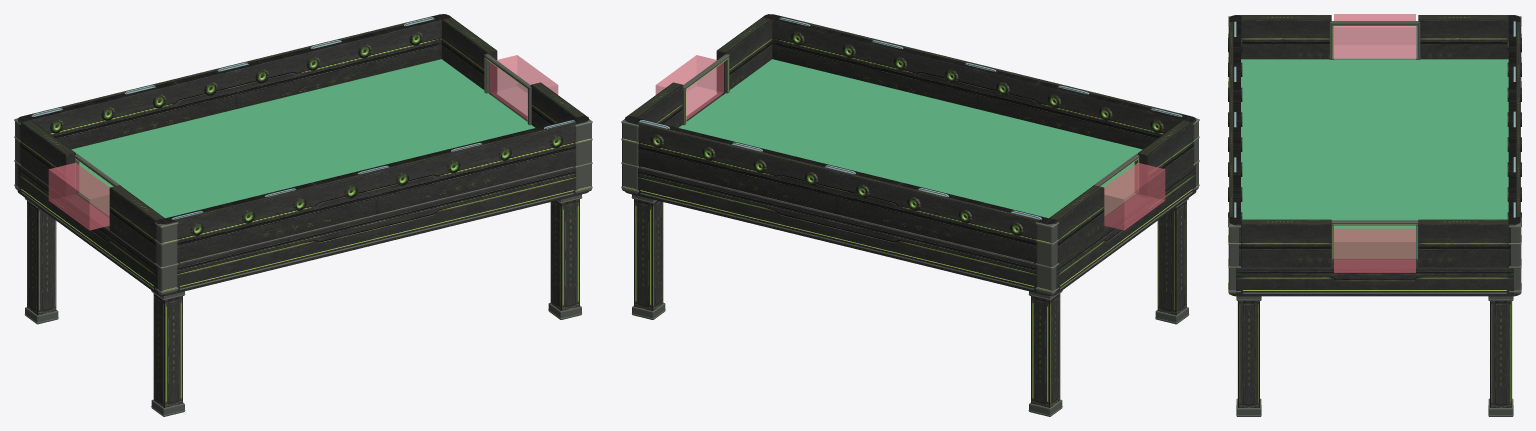
File: candidate.glb
3 views of the same model, side by side, from view 1: azimuth 30°, elevation 25°; view 2: azimuth 150°, elevation 25°; view 3: azimuth 270°, elevation 25° (orthographic).
Visible parts, largest first — view 1: field.001, wall_side_near.001, table_base.001, wall_side_far.001, alien_decor_alien_corner_armour, alien_decor_alien_engraved_top, table_leg.005, table_leg.007, table_leg.004, goal_net_left.001, alien_decor_alien_corner_edges, wall_end_l_far.001 (+7 smaller); view 2: field.001, wall_side_far.001, table_base.001, wall_side_near.001, alien_decor_alien_corner_armour, alien_decor_alien_engraved_top, table_leg.004, table_leg.006, table_leg.005, goal_net_left.001, alien_decor_alien_corner_edges, wall_end_l_near.001 (+7 smaller); view 3: field.001, table_base.001, wall_end_r_far.001, wall_end_r_near.001, alien_decor_alien_engraved_top, goal_net_right.001, wall_end_l_far.001, wall_end_l_near.001, goal_net_left.001, table_leg.006, table_leg.007, alien_decor_alien_corner_armour (+6 smaller).
Part boxes in pixels (box(x1,y1,x2,y2)): field.001: box(71, 59, 535, 218); wall_side_near.001: box(155, 115, 589, 263); table_base.001: box(17, 94, 588, 295); wall_side_far.001: box(17, 14, 451, 164); alien_decor_alien_corner_armour: box(15, 118, 591, 416); alien_decor_alien_engraved_top: box(22, 16, 584, 220); table_leg.005: box(153, 293, 182, 407); table_leg.007: box(550, 199, 579, 310); table_leg.004: box(27, 201, 56, 315); goal_net_left.001: box(48, 162, 109, 230); alien_decor_alien_corner_edges: box(14, 14, 592, 415); wall_end_l_far.001: box(21, 122, 76, 197); field.001: box(678, 59, 1142, 218); wall_side_far.001: box(624, 115, 1058, 263); table_base.001: box(625, 94, 1196, 295); wall_side_near.001: box(762, 14, 1196, 164); alien_decor_alien_corner_armour: box(622, 118, 1198, 416); alien_decor_alien_engraved_top: box(629, 16, 1191, 220); table_leg.004: box(1031, 293, 1060, 407); table_leg.006: box(634, 199, 663, 310); table_leg.005: box(1157, 201, 1186, 315); goal_net_left.001: box(1104, 162, 1165, 230); alien_decor_alien_corner_edges: box(621, 14, 1199, 415); wall_end_l_near.001: box(1137, 122, 1192, 197); field.001: box(1241, 59, 1508, 258); table_base.001: box(1231, 58, 1518, 296); wall_end_r_far.001: box(1418, 220, 1508, 267); wall_end_r_near.001: box(1241, 220, 1331, 267); alien_decor_alien_engraved_top: box(1229, 15, 1520, 224); goal_net_right.001: box(1334, 228, 1415, 272); wall_end_l_far.001: box(1418, 15, 1508, 59); wall_end_l_near.001: box(1241, 15, 1331, 59); goal_net_left.001: box(1334, 14, 1415, 58); table_leg.006: box(1490, 301, 1511, 407); table_leg.007: box(1238, 301, 1259, 407); alien_decor_alien_corner_armour: box(1228, 16, 1521, 416).
Bounding box in the file's own units: 137 × 55.48 × 74.66.
Materials: 11 (4 with a texture image).
